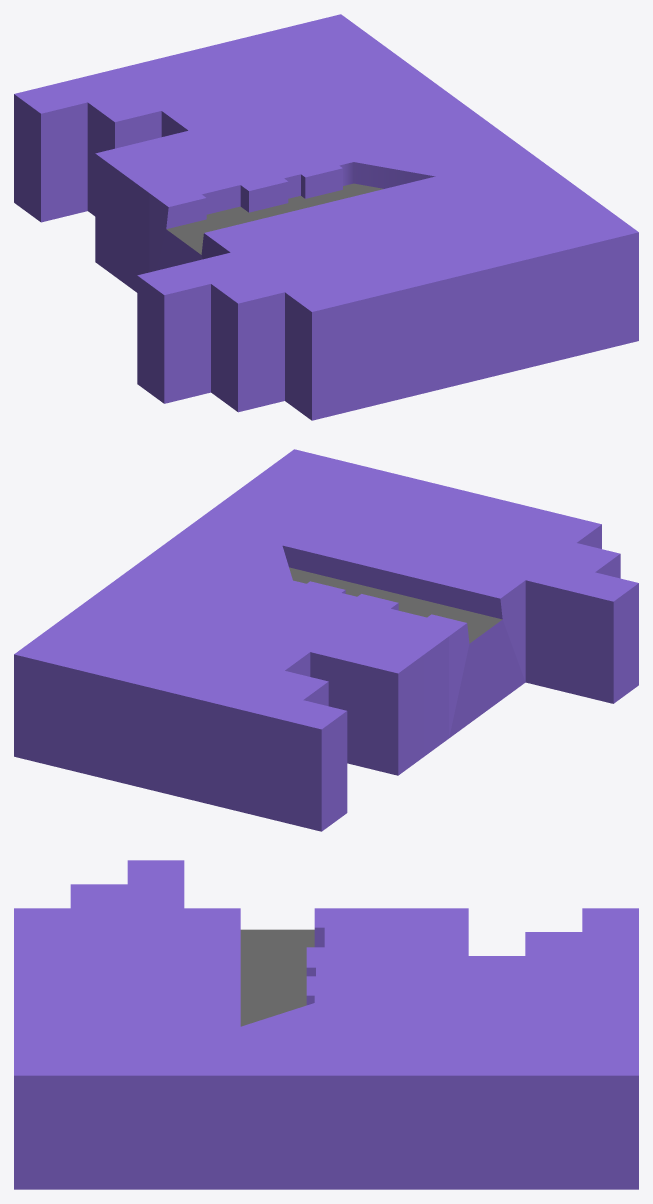
File: KeyMold2.fbx
3 views of the same model, one above another, from view 1: azimuth 30°, elevation 25°; view 2: azimuth 150°, elevation 25°; view 3: azimuth 270°, elevation 25° (orthographic). The views are drawn at different scales.
Parts seen in each view (by area): view 1: KeyMold2; view 2: KeyMold2; view 3: KeyMold2.
Part boxes in pixels (x1,y1,x2,y2): KeyMold2: [14, 14, 638, 420]; KeyMold2: [14, 449, 638, 831]; KeyMold2: [14, 860, 638, 1189].
Size of the model in its own units: 0.1633 by 0.0403 by 0.2004.
